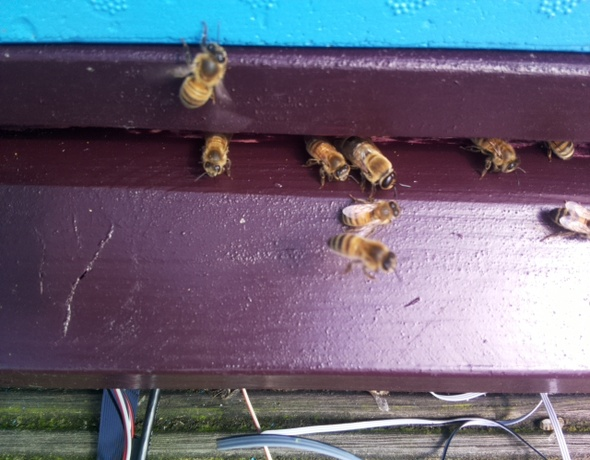no_pollen: (174, 39, 229, 113), (325, 231, 399, 280), (339, 135, 398, 193), (464, 126, 524, 181), (303, 134, 352, 189), (340, 194, 400, 231), (537, 200, 590, 240), (199, 131, 233, 181), (543, 135, 577, 164)
